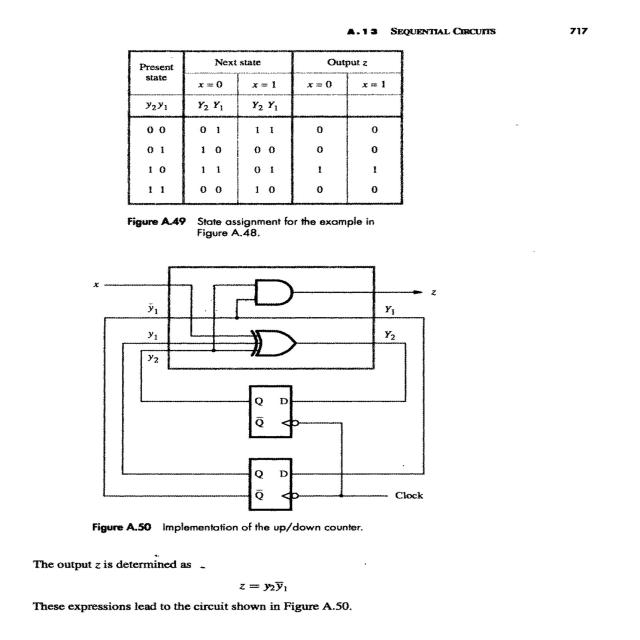diagram: (18, 256, 584, 544), (80, 38, 459, 249)
